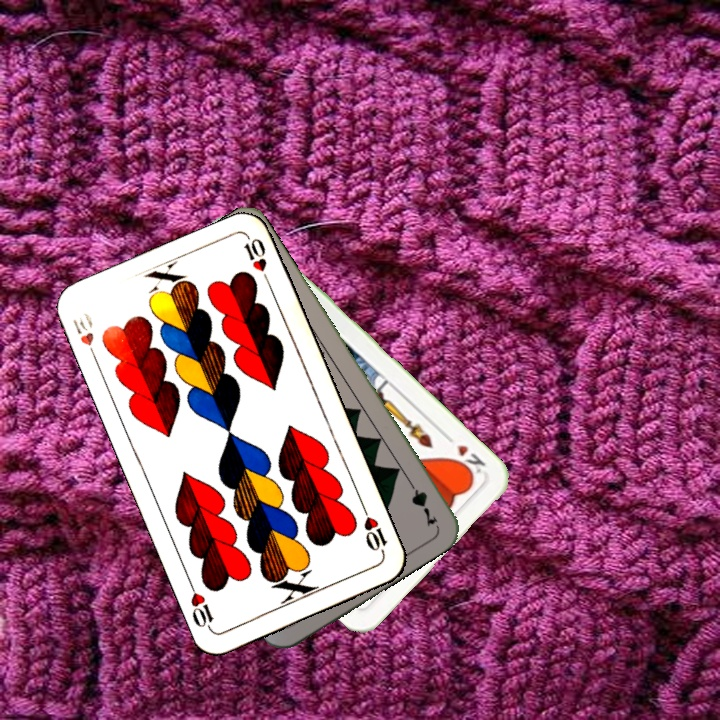G7: (402, 473, 441, 529)
H10: (358, 502, 390, 558), (68, 308, 100, 364)
HK: (440, 430, 489, 482)
